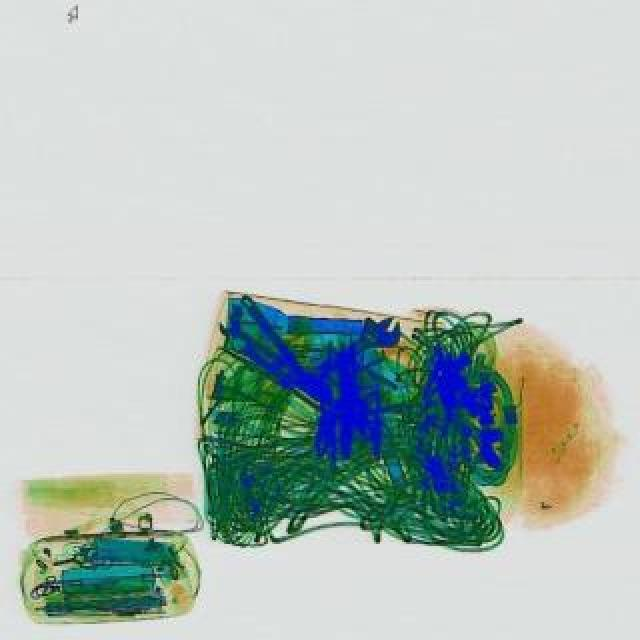scissors: (296, 302, 412, 392), (216, 308, 298, 376)
